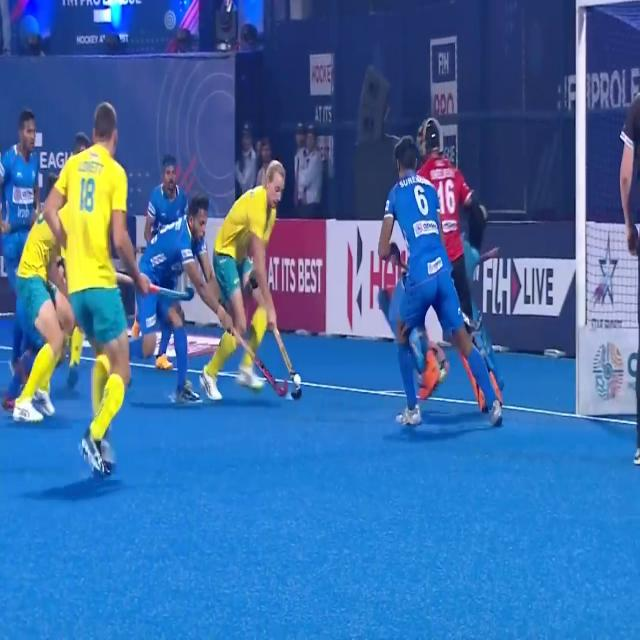ball: (281, 354, 313, 398)
